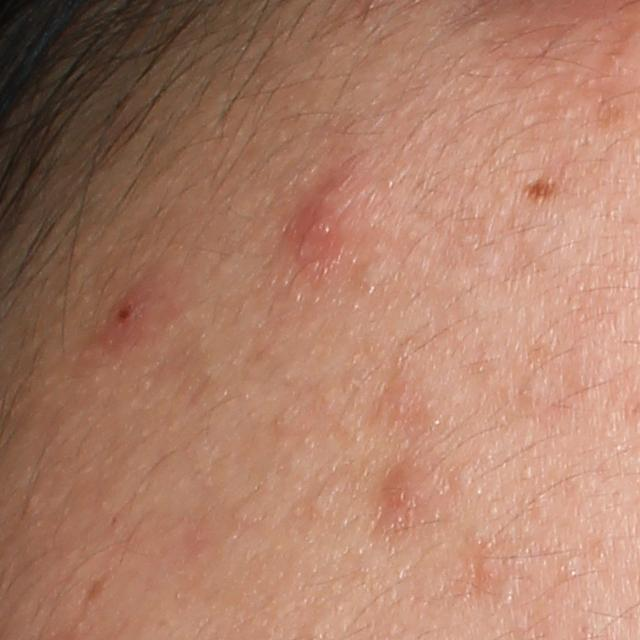comedo: (354, 256, 396, 295)
nevus: (523, 176, 558, 200)
papule: (292, 206, 338, 291), (94, 293, 148, 343), (384, 471, 423, 519)
